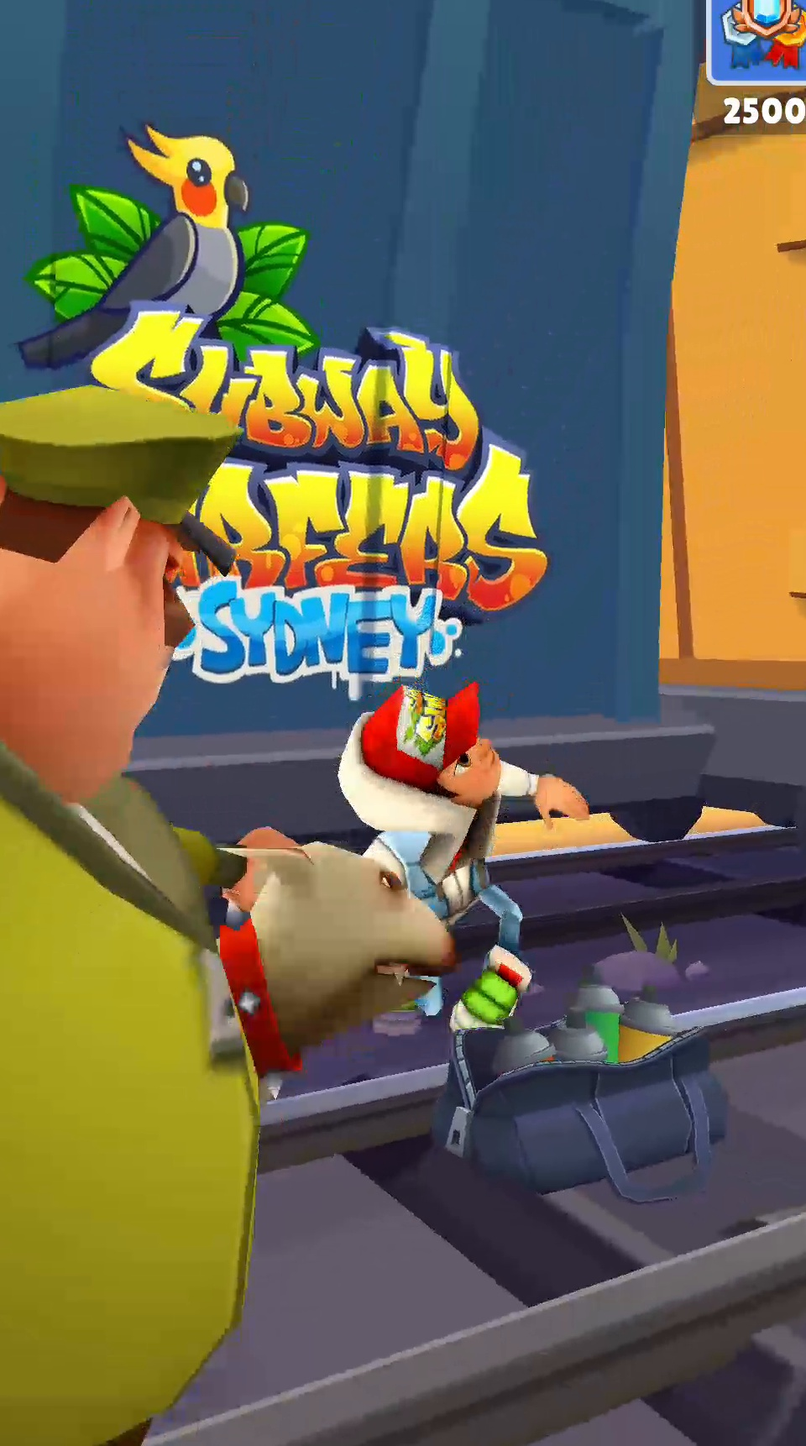police: (0, 387, 259, 1445)
